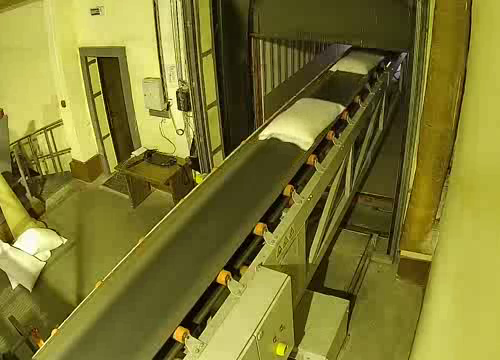bag: (255, 95, 347, 152), (328, 49, 386, 76)
